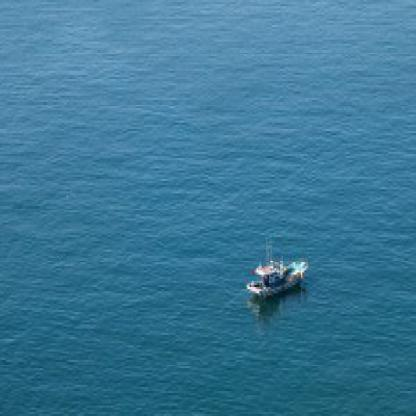fish-b: (245, 235, 314, 306)
